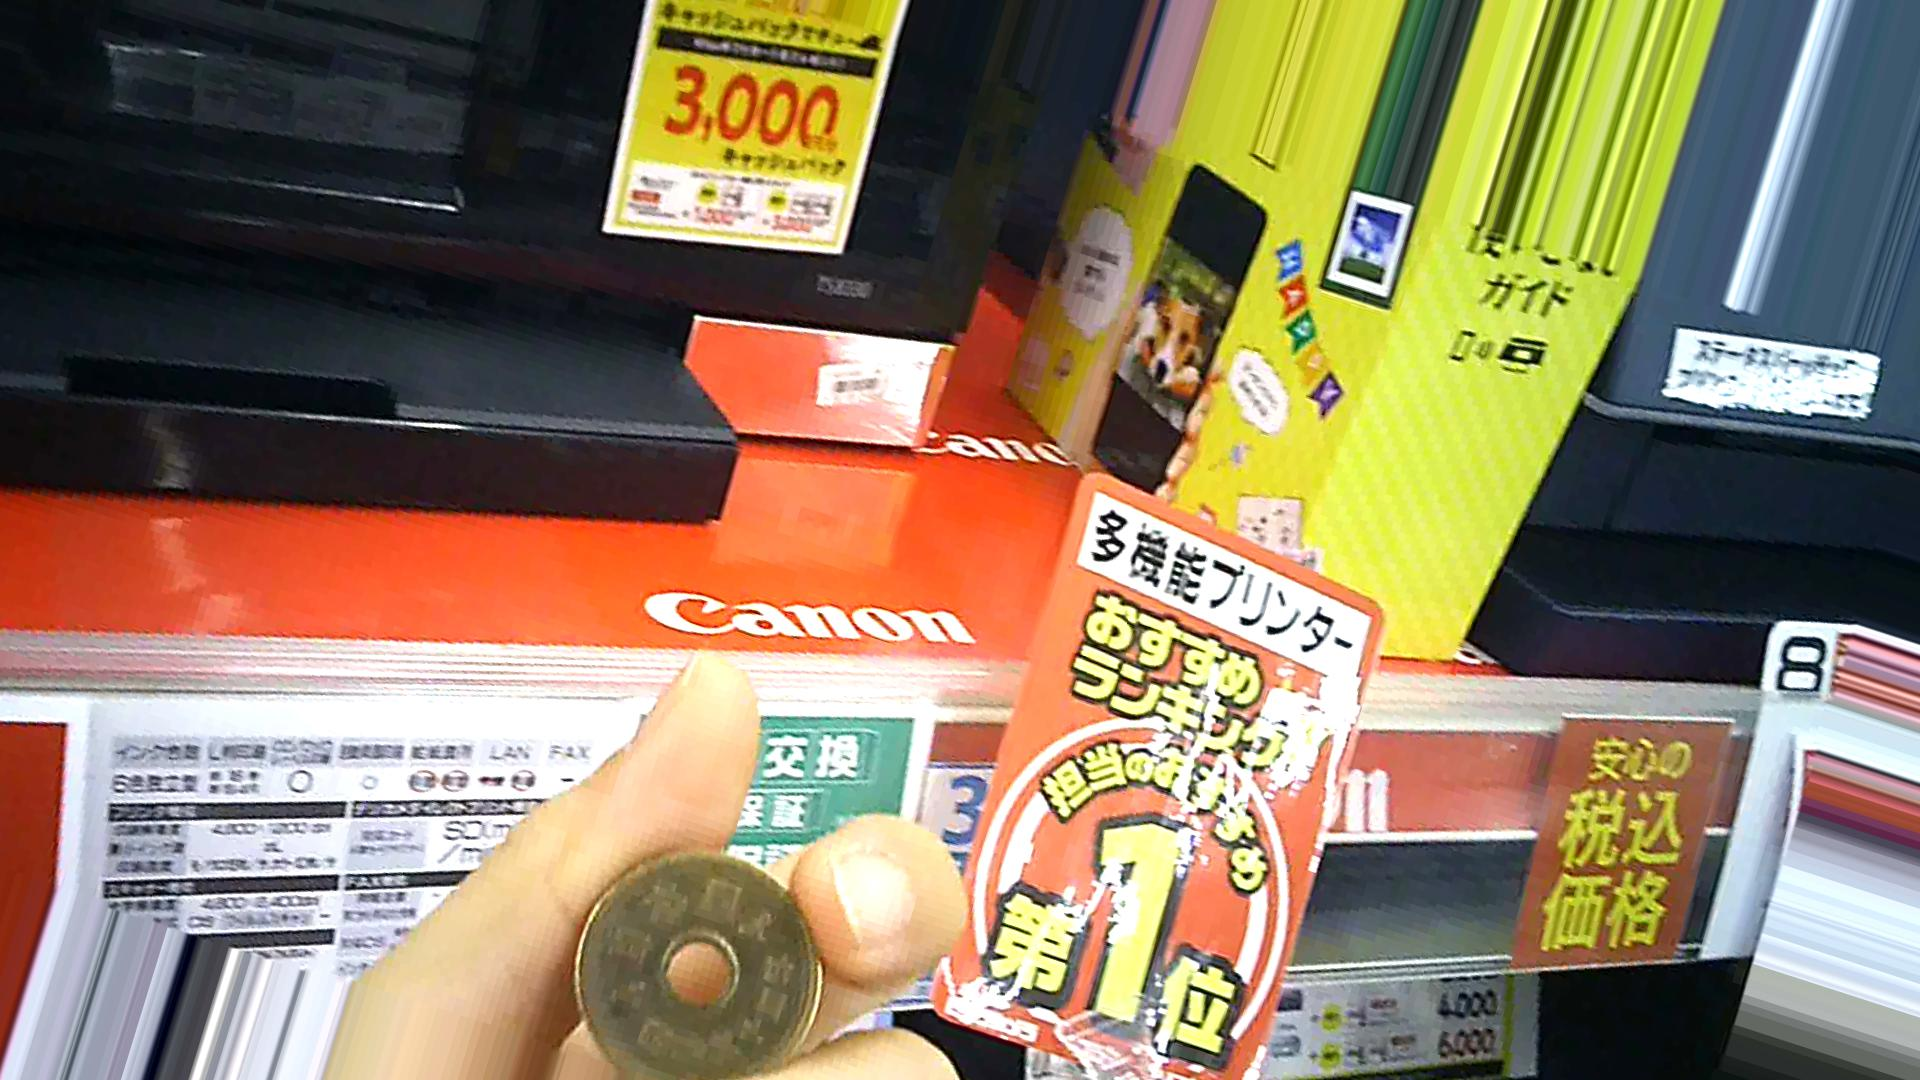5 Yen: (550, 851, 825, 1079)
